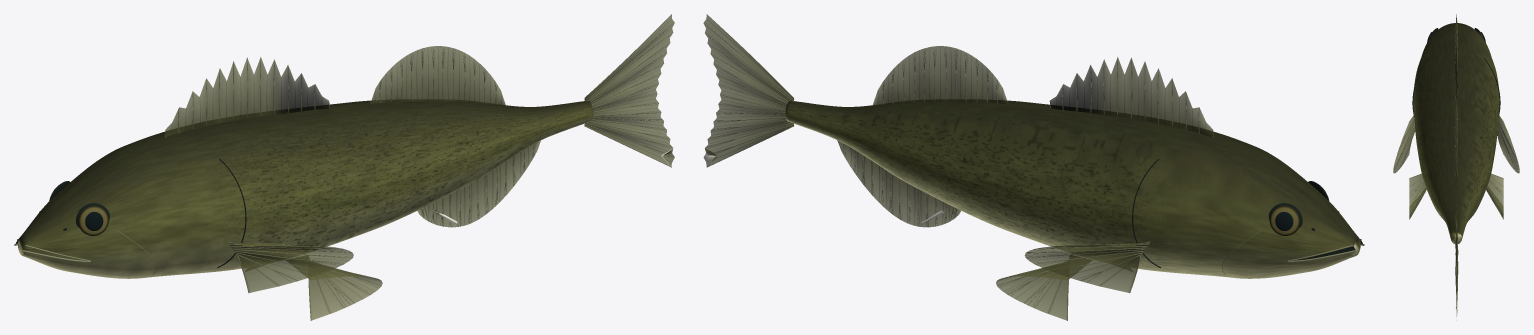
The model's file is walleye.glb.
3 views of the same model, side by side, from view 1: azimuth 30°, elevation 25°; view 2: azimuth 150°, elevation 25°; view 3: azimuth 270°, elevation 25° (orthographic). The views are drawn at different scales.
Parts seen in each view (by area): view 1: walleye specimen; view 2: walleye specimen; view 3: walleye specimen.
Part boxes in pixels (left/top/right/bottom): walleye specimen: left=14, top=14, right=674, bottom=320; walleye specimen: left=703, top=14, right=1364, bottom=320; walleye specimen: left=1393, top=14, right=1519, bottom=320.
Bounding box in the file's own units: 2.37 × 0.8524 × 0.5554.
12 materials, 7 textured.
